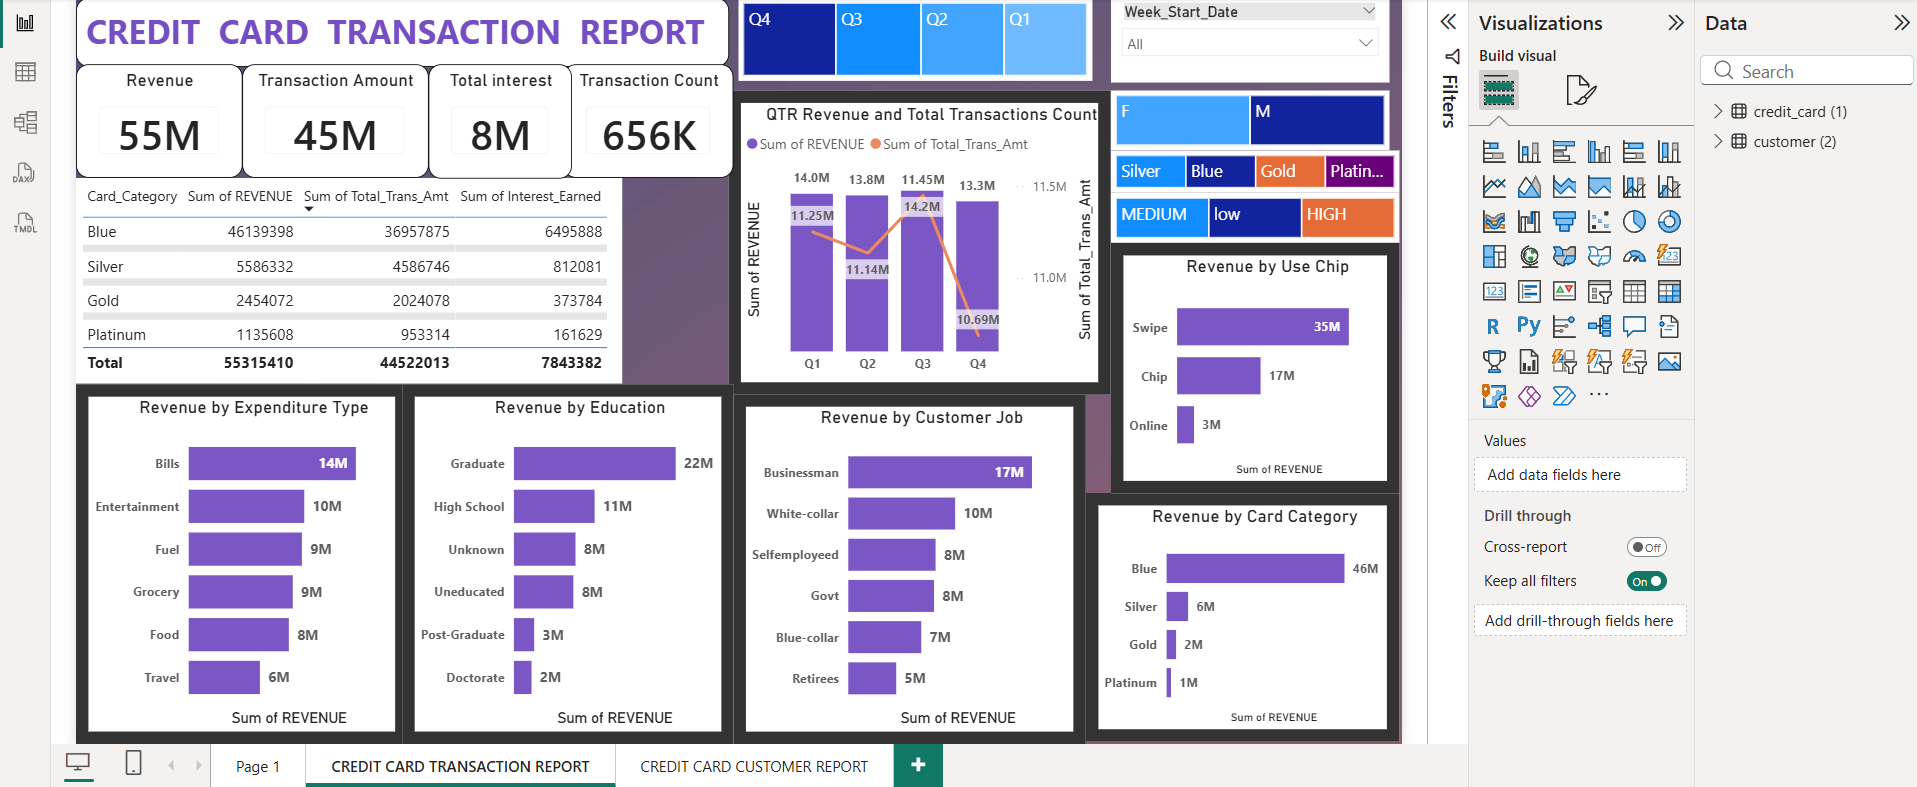

This screenshot's page, from the dashboard's own definition file:
{"tool":"powerbi","page":{"name":"CREDIT CARD TRANSACTION REPORT","canvas":[1280,720],"ordinal":1},"visuals":[{"type":"textbox","box":[0,0,630,66.2],"z":0},{"type":"lineStackedColumnComboChart","title":"QTR Revenue and Total Transactions Count","fields":{"Category":["credit_card (1).Qtr"],"Y":["Sum(credit_card (1).REVENUE)"],"Y2":["Sum(credit_card (1).Total_Trans_Amt)"]},"box":[630,88.8,368.8,293.8],"z":1000},{"type":"barChart","title":"Revenue by Expenditure Type","fields":{"Y":["Sum(credit_card (1).REVENUE)"],"Category":["credit_card (1).Exp Type"]},"box":[0,372.5,320,347.5],"z":2000},{"type":"barChart","title":"Revenue by  Education","fields":{"Y":["Sum(credit_card (1).REVENUE)"],"Category":["customer (2).Education_Level"]},"box":[315,372.5,320,347.5],"z":3000},{"type":"barChart","title":"Revenue by Customer Job","fields":{"Y":["Sum(credit_card (1).REVENUE)"],"Category":["customer (2).Customer_Job"]},"box":[635,382.5,340,337.5],"z":4000},{"type":"barChart","title":"Revenue by Card Category","fields":{"Y":["Sum(credit_card (1).REVENUE)"],"Category":["credit_card (1).Card_Category"]},"box":[975,477.5,302.5,240],"z":5000},{"type":"barChart","title":"Revenue by Use Chip","fields":{"Y":["Sum(credit_card (1).REVENUE)"],"Category":["credit_card (1).Use Chip"]},"box":[998.8,236.2,278.8,241.2],"z":6000},{"type":"tableEx","fields":{"Values":["credit_card (1).Card_Category","Sum(credit_card (1).REVENUE)","Sum(credit_card (1).Total_Trans_Amt)","Sum(credit_card (1).Interest_Earned)"]},"box":[0,173.8,527.5,198.8],"z":7000},{"type":"cardVisual","title":"Revenue","fields":{"Data":["Sum(credit_card (1).REVENUE)"]},"box":[0,63.9,160.5,109.8],"z":8000},{"type":"cardVisual","title":"Transaction Amount","fields":{"Data":["Sum(credit_card (1).Total_Trans_Amt)"]},"box":[160.5,63.9,179.8,109.8],"z":9000},{"type":"cardVisual","title":"Transaction Count","fields":{"Data":["Sum(credit_card (1).Total_Trans_Vol)"]},"box":[470.5,63.9,164.1,109.8],"z":10000},{"type":"cardVisual","title":"Total interest","fields":{"Data":["Sum(credit_card (1).Interest_Earned)"]},"box":[340,63.8,138.8,110],"z":11000},{"type":"slicer","fields":{"Values":["credit_card (1).Week_Start_Date"]},"box":[998.6,0,268.6,81.4],"z":12000},{"type":"treemap","fields":{"Group":["credit_card (1).Qtr","customer (2).Gender"],"Values":["Avg(customer (2).Client_Num)"]},"box":[640,0,341.2,80],"z":13000},{"type":"treemap","fields":{"Group":["customer (2).Gender"],"Values":["Avg(customer (2).Client_Num)"]},"box":[998.9,89.3,269,57.9],"z":14000},{"type":"treemap","fields":{"Group":["credit_card (1).Card_Category"],"Values":["Avg(customer (2).Client_Num)"]},"box":[998.9,147.2,278.7,41],"z":15000},{"type":"treemap","fields":{"Group":["customer (2).INCOMEGROUP"],"Values":["Avg(customer (2).Client_Num)"]},"box":[998.9,188.2,278.7,48.3],"z":16000}]}

Visuals, with their boxes in screenshot pixels (x1, y1, x2, y2):
textbox: select_region(70, 0, 726, 59)
"QTR Revenue and Total Transactions Count" lineStackedColumnComboChart: select_region(726, 83, 1111, 389)
"Revenue by Expenditure Type" barChart: select_region(70, 378, 403, 740)
"Revenue by  Education" barChart: select_region(398, 378, 732, 740)
"Revenue by Customer Job" barChart: select_region(732, 389, 1086, 740)
"Revenue by Card Category" barChart: select_region(1086, 488, 1401, 738)
"Revenue by Use Chip" barChart: select_region(1111, 236, 1401, 487)
tableEx - credit_card (1).Card_Category x Sum(credit_card (1).REVENUE): select_region(70, 171, 620, 378)
"Revenue" cardVisual: select_region(70, 57, 237, 171)
"Transaction Amount" cardVisual: select_region(237, 57, 425, 171)
"Transaction Count" cardVisual: select_region(560, 57, 731, 171)
"Total interest" cardVisual: select_region(424, 57, 569, 171)
slicer - credit_card (1).Week_Start_Date: select_region(1110, 0, 1390, 75)
treemap - credit_card (1).Qtr x customer (2).Gender: select_region(737, 0, 1092, 73)
treemap - customer (2).Gender x Avg(customer (2).Client_Num): select_region(1111, 83, 1391, 143)
treemap - credit_card (1).Card_Category x Avg(customer (2).Client_Num): select_region(1111, 143, 1401, 186)
treemap - customer (2).INCOMEGROUP x Avg(customer (2).Client_Num): select_region(1111, 186, 1401, 236)
